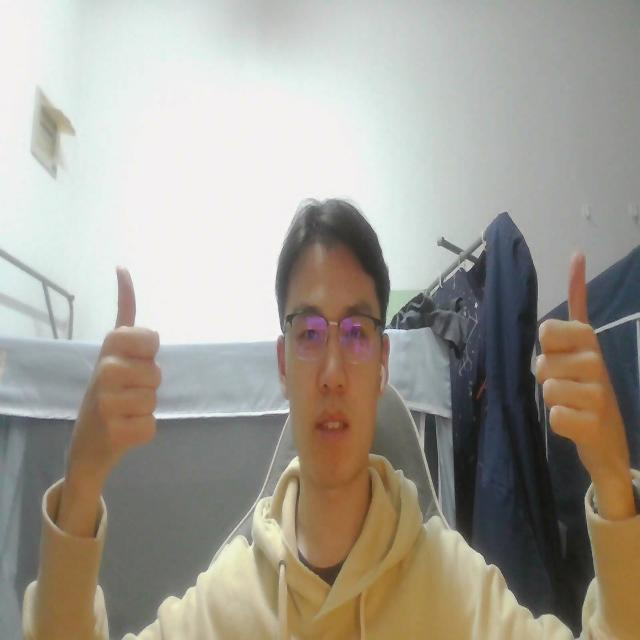good: (533, 249, 634, 496), (75, 254, 162, 477)
